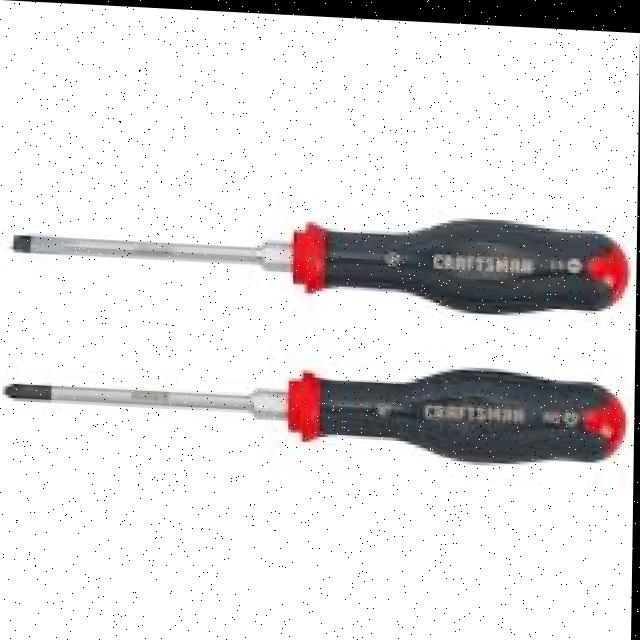Screwdriver: (14, 214, 631, 308), (7, 366, 630, 457)
